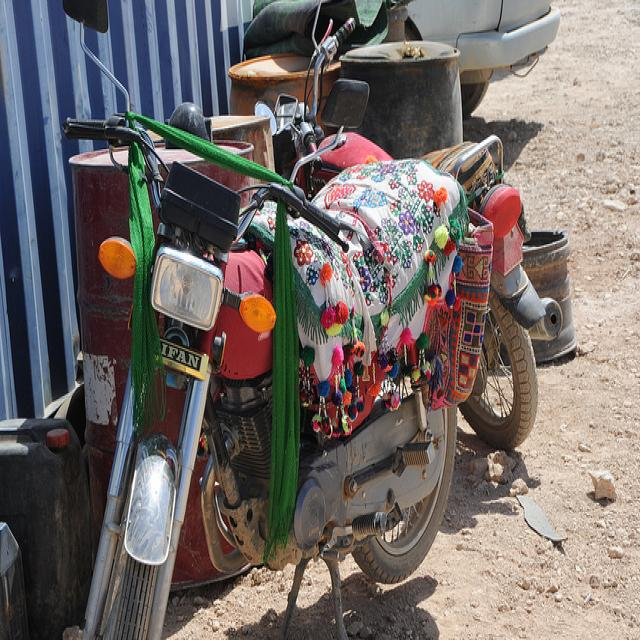motor: (61, 1, 464, 633), (257, 20, 563, 449)
